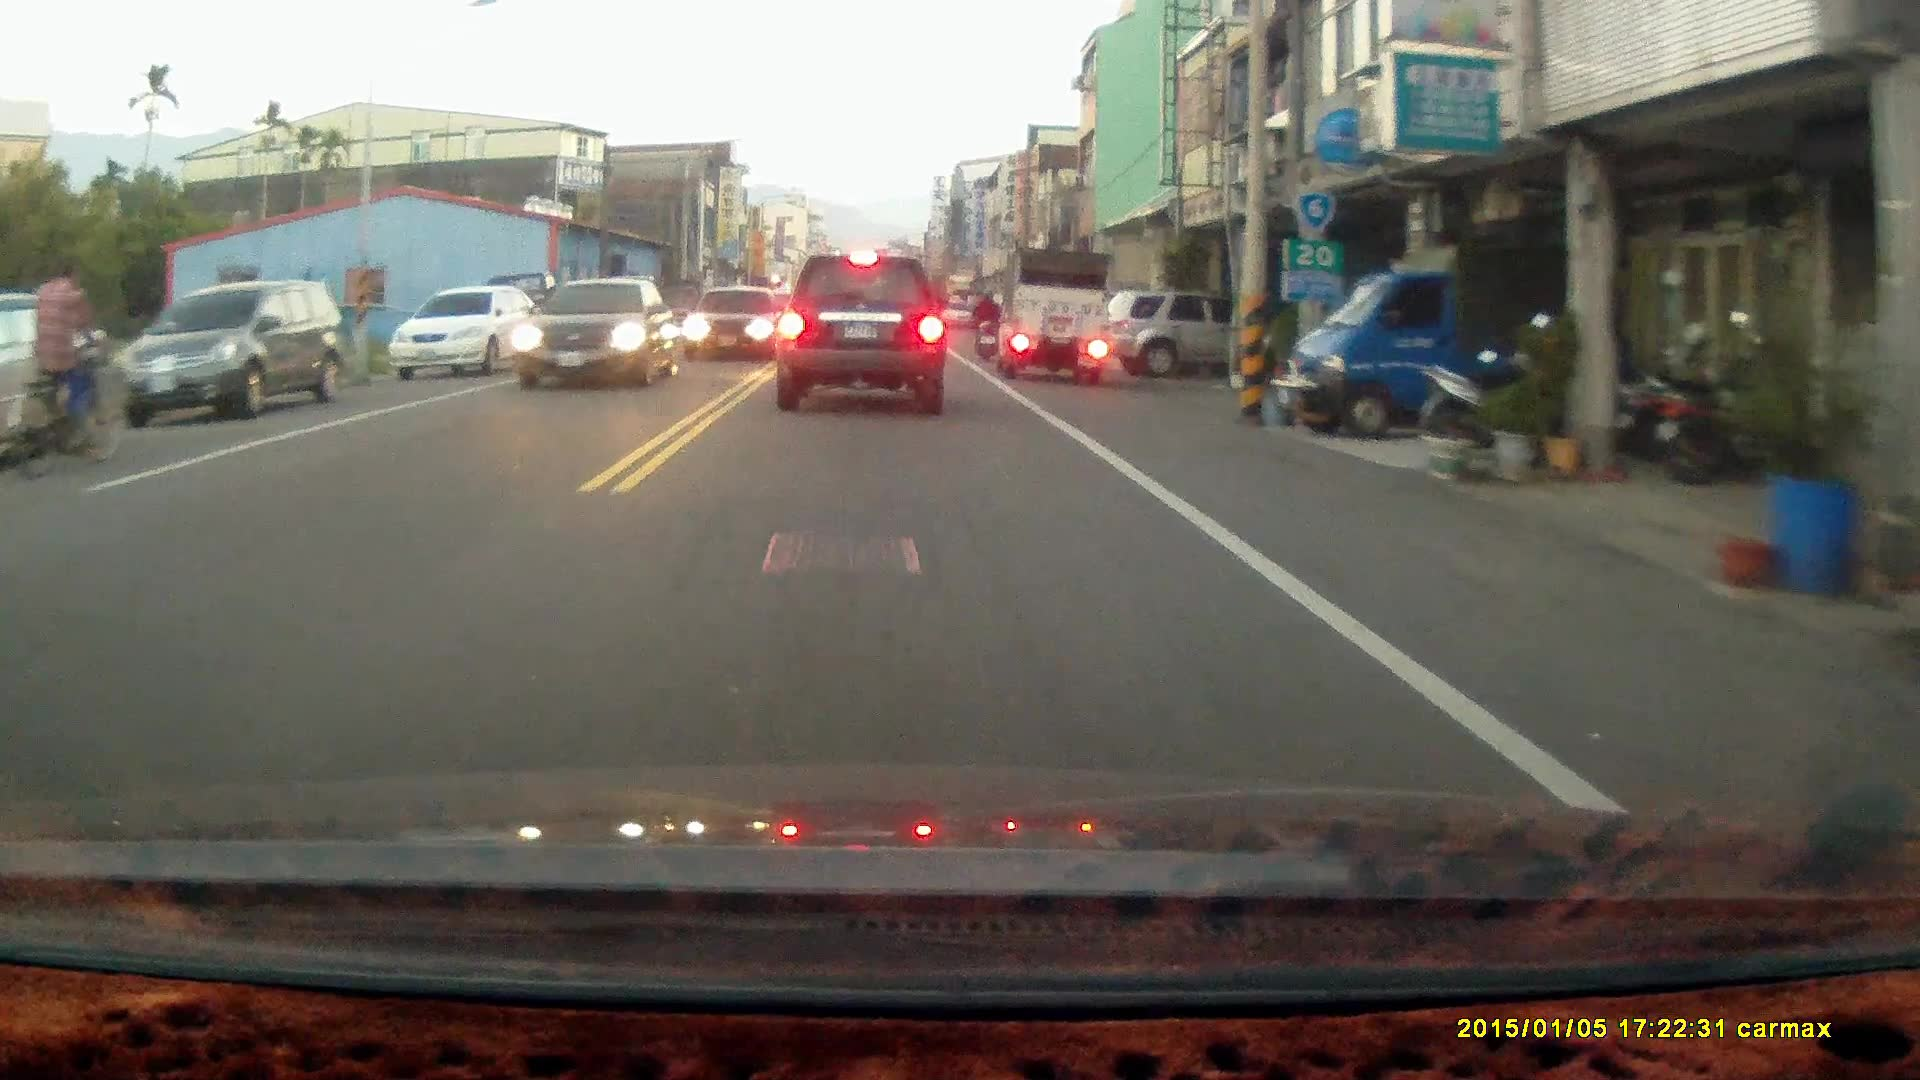rider: (1, 254, 136, 484), (968, 283, 1003, 363)
vehicle: (1294, 213, 1570, 445), (112, 280, 349, 423), (773, 259, 948, 425), (1, 290, 116, 470), (512, 280, 676, 395), (392, 287, 553, 382), (1004, 250, 1111, 385), (1107, 292, 1232, 386), (686, 290, 784, 363)
